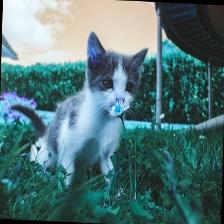kedo: (14, 31, 147, 179)
